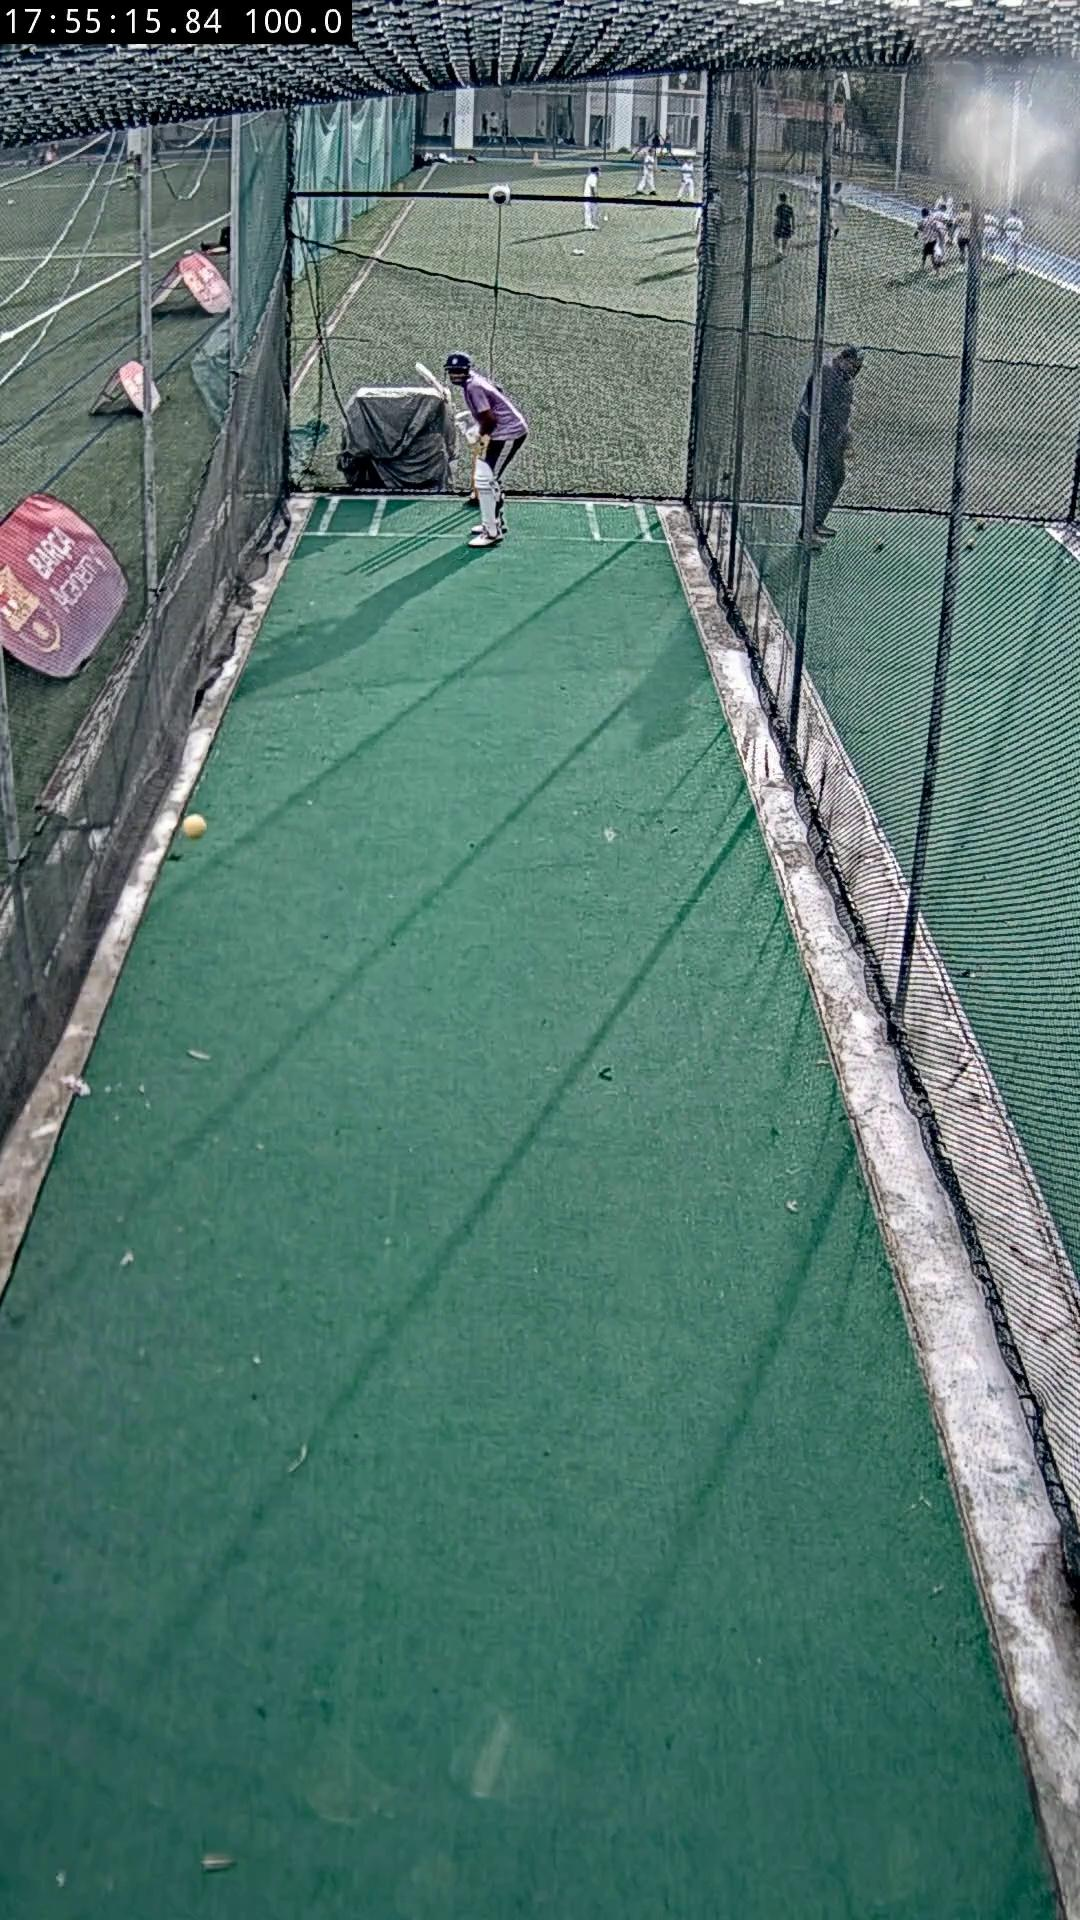ball: (179, 814, 206, 840)
bat: (417, 360, 460, 417)
gloves: (454, 409, 480, 446)
helmet: (446, 352, 472, 375)
pads: (476, 462, 498, 537)
